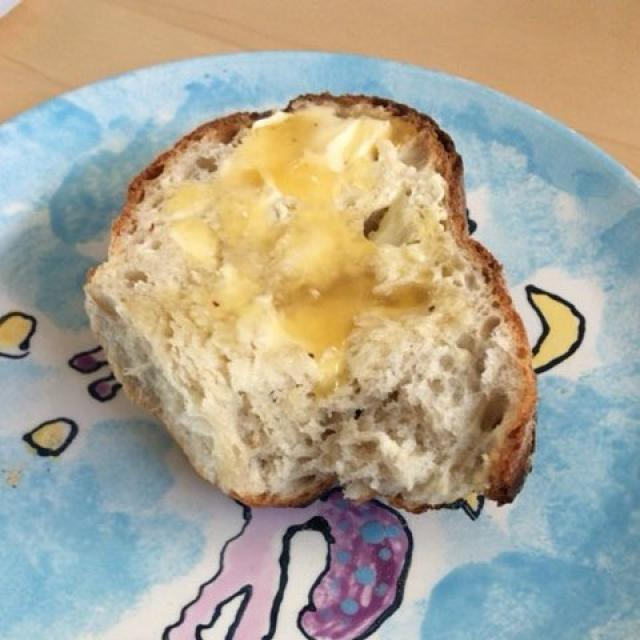bread: (97, 107, 529, 511)
honey: (158, 111, 453, 376)
